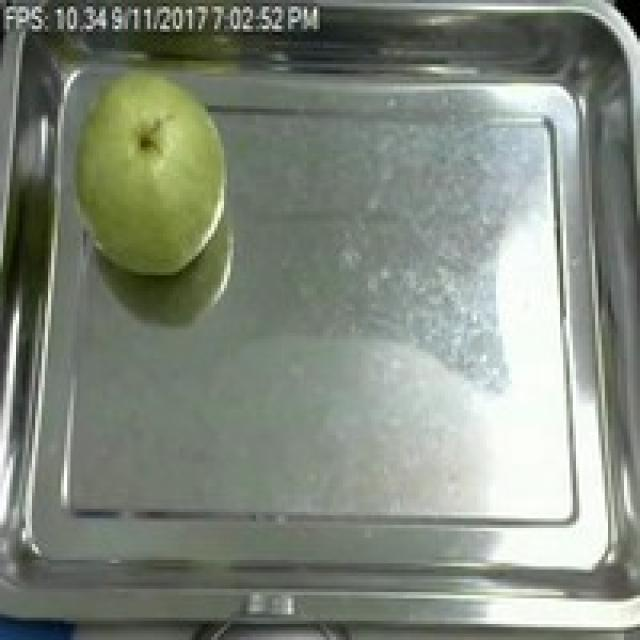Fruit: (32, 54, 243, 288)
